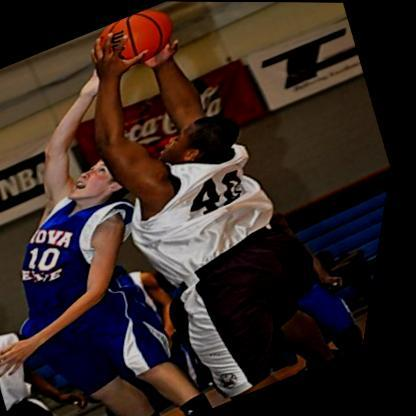basketball: (82, 1, 187, 80)
